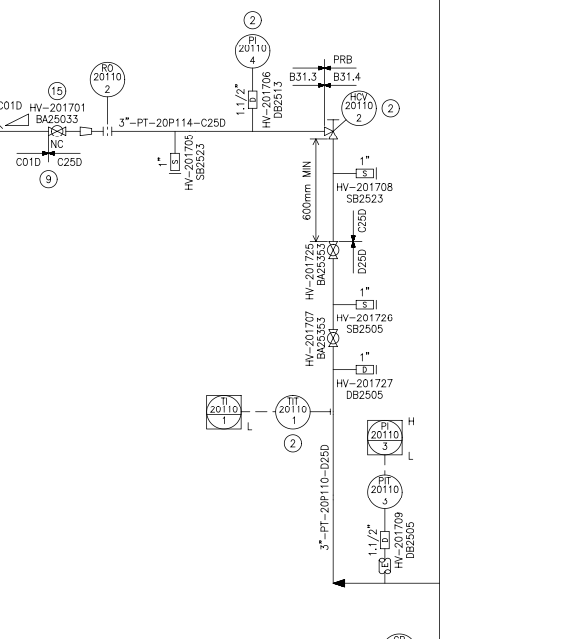Instrument: (359, 470, 408, 512), (82, 57, 129, 99), (332, 87, 380, 128), (271, 386, 311, 432), (231, 31, 273, 70)
Instrument-square: (358, 413, 407, 461), (200, 389, 245, 434)
